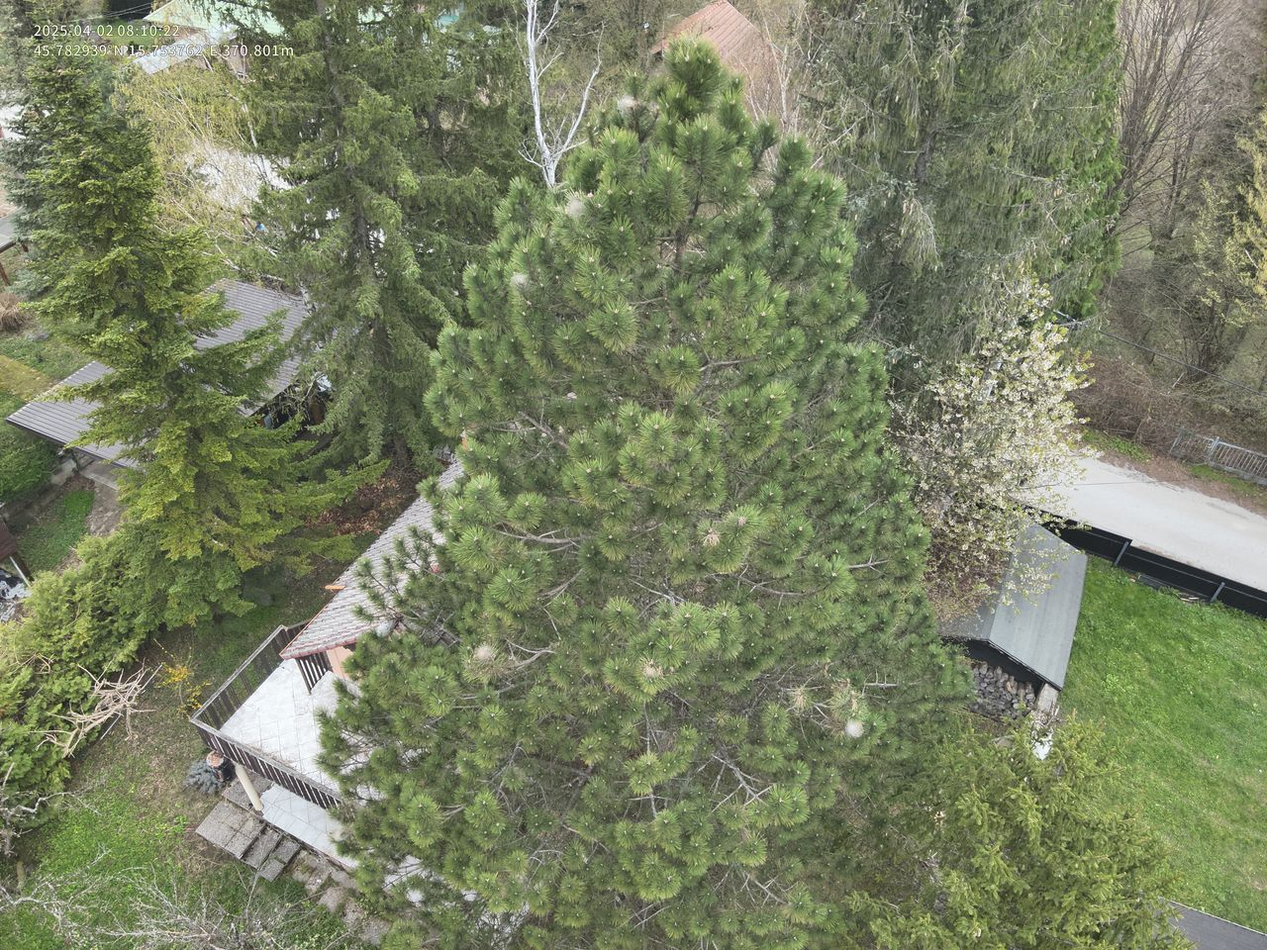thaumatopoea pityocampa jajno gnijezdo: (560, 190, 587, 219), (470, 644, 502, 667), (839, 717, 863, 743), (506, 267, 530, 290), (616, 92, 637, 118), (405, 885, 425, 908)
